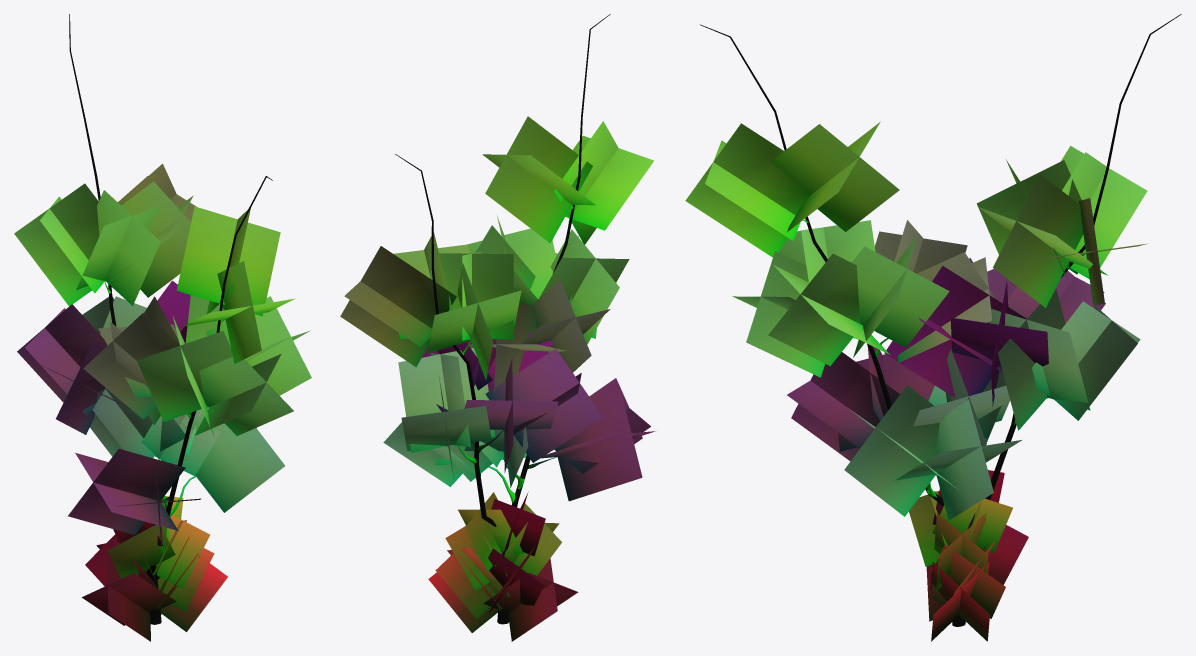
File: URP_P12_Tree_6_LOD_2.fbx
3 views of the same model, side by side, from view 1: azimuth 30°, elevation 25°; view 2: azimuth 150°, elevation 25°; view 3: azimuth 270°, elevation 25° (orthographic). The views are drawn at different scales.
Parts seen in each view (by area): view 1: Tree_6_LOD_2; view 2: Tree_6_LOD_2; view 3: Tree_6_LOD_2.
Part boxes in pixels (x1,y1,x2,y2): Tree_6_LOD_2: (14,14,311,641); Tree_6_LOD_2: (340,14,655,641); Tree_6_LOD_2: (685,14,1181,641).
Size of the model in its own units: 184 by 438 by 316.
